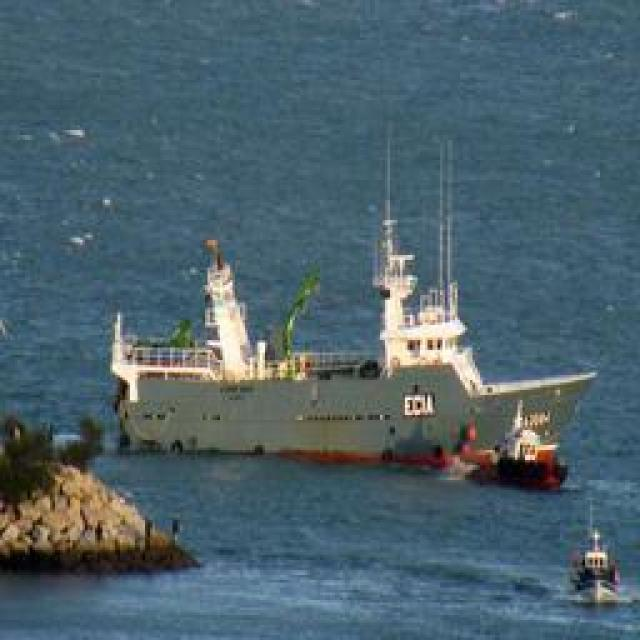Ship: (106, 154, 594, 469)
